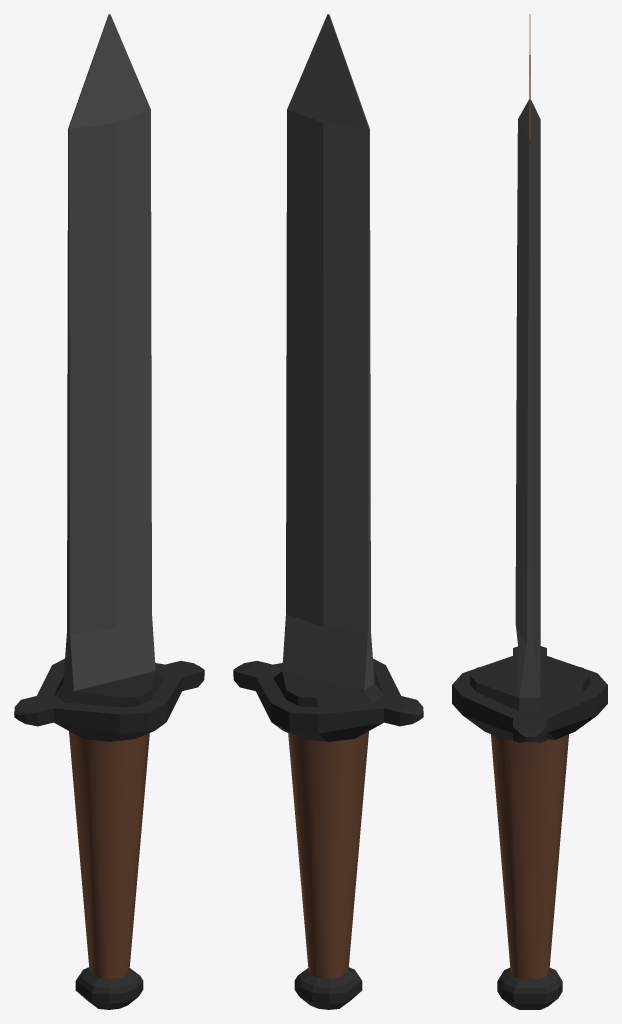
The model's file is Sword_001.fbx.
3 renders of one model, left to right at view 1: azimuth 30°, elevation 25°; view 2: azimuth 150°, elevation 25°; view 3: azimuth 270°, elevation 25°, orthographic.
Visible parts, largest first — view 1: Sword.001; view 2: Sword.001; view 3: Sword.001.
Boxes of the visible parts, x1,y1,x2,y2 form: Sword.001: (14, 14, 204, 1009); Sword.001: (233, 14, 423, 1009); Sword.001: (452, 14, 607, 1009).
Size of the model in its own units: 0.6212 by 3.15 by 0.4504.
